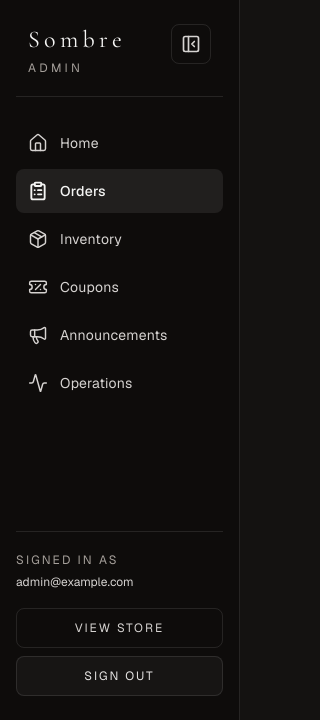
AdminDesktopSidebar › collapses to icon-only navigation without losing accessible names
This screenshot has width=320, height=720.
Click the button named "Collapse sidebar" at coordinates (191, 44), box [171,24,211,64]
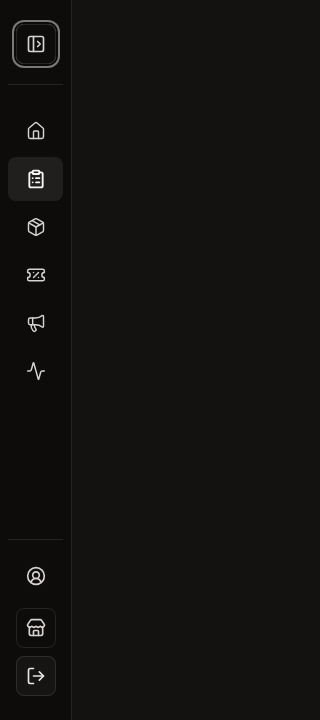
Check: the button named "Expand sidebar" is collapsed, box [16,24,56,64]
